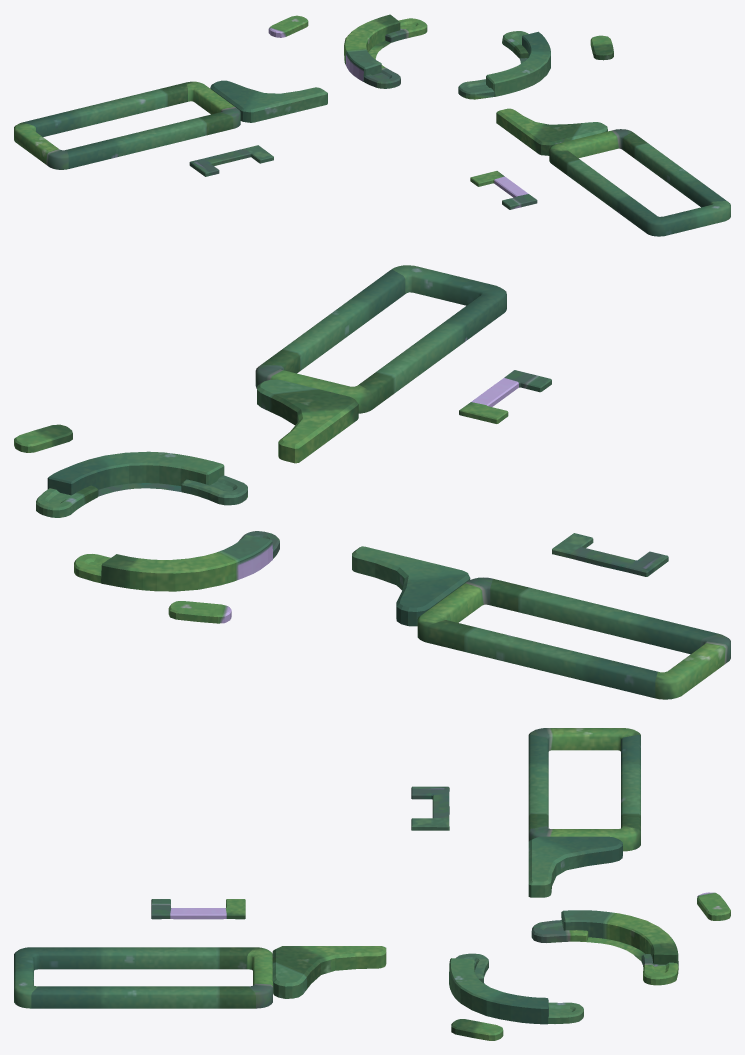
Rendered from pref_sm_garden_bush_vertexcolor_05_lv1.fbx.
3 renders of one model, top to bottom at view 1: azimuth 30°, elevation 25°; view 2: azimuth 150°, elevation 25°; view 3: azimuth 270°, elevation 25°, orthographic. The views are drawn at different scales.
Visible parts, largest first — view 1: pref_sm_garden_bush_vertexcolor_05_lv1; view 2: pref_sm_garden_bush_vertexcolor_05_lv1; view 3: pref_sm_garden_bush_vertexcolor_05_lv1.
Boxes of the visible parts, box(x1,y1,x2,y2) form: pref_sm_garden_bush_vertexcolor_05_lv1: box(14, 14, 730, 236); pref_sm_garden_bush_vertexcolor_05_lv1: box(14, 265, 730, 699); pref_sm_garden_bush_vertexcolor_05_lv1: box(14, 728, 730, 1040).
Bounding box in the file's own units: 54.77 × 1.49 × 53.47.
